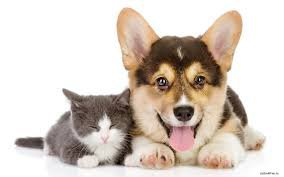cat: (48, 84, 137, 172)
dog: (110, 4, 263, 173)
